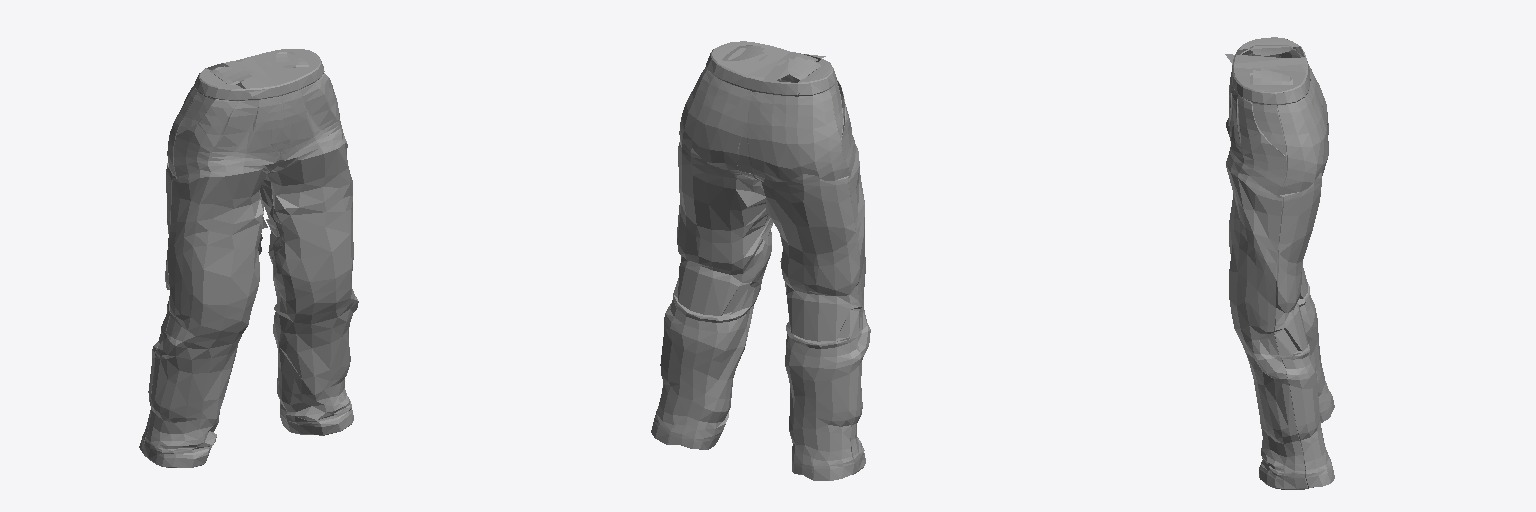
File: jeans7.obj
3 views of the same model, side by side, from view 1: azimuth 30°, elevation 25°; view 2: azimuth 150°, elevation 25°; view 3: azimuth 270°, elevation 25° (orthographic).
Visible parts, largest first — view 1: Object60; view 2: Object60; view 3: Object60.
Part boxes in pixels (x1,y1,x2,y2): Object60: (139, 49, 358, 467); Object60: (651, 41, 870, 480); Object60: (1225, 37, 1334, 489).
Bounding box in the file's own units: 6.06 × 11.33 × 2.92.